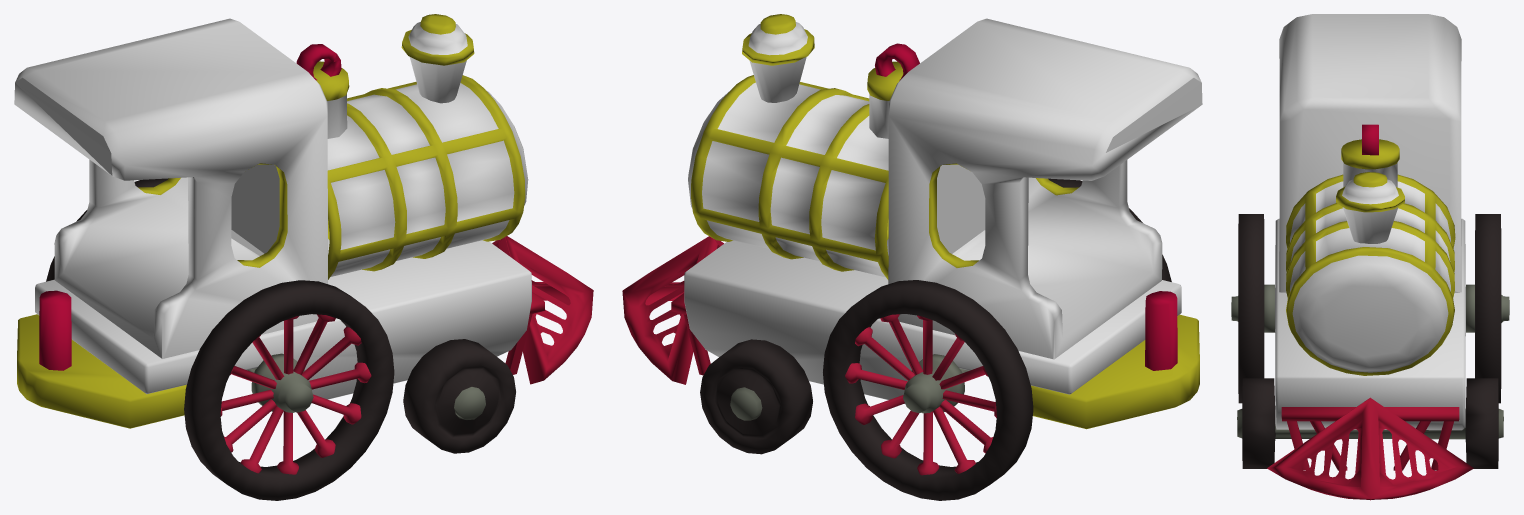
File: Train.glb
3 renders of one model, left to right at view 1: azimuth 30°, elevation 25°; view 2: azimuth 150°, elevation 25°; view 3: azimuth 270°, elevation 25°, orthographic. The views are drawn at different scales.
Visible parts, largest first — view 1: Mesh_0; view 2: Mesh_0; view 3: Mesh_0.
Part boxes in pixels (<box>): Mesh_0: <box>14,14,593,500</box>; Mesh_0: <box>622,14,1202,500</box>; Mesh_0: <box>1231,14,1509,500</box>.
Bounding box in the file's own units: 1.94 × 1.25 × 0.9825.
